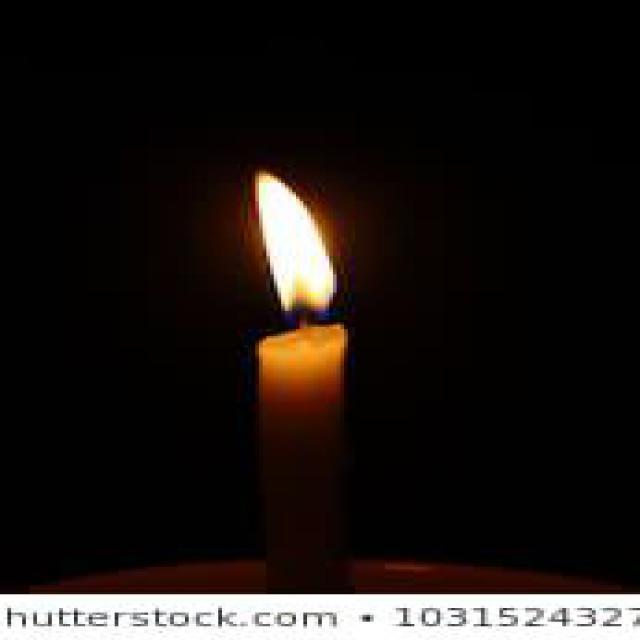Fire: (254, 172, 338, 322)
